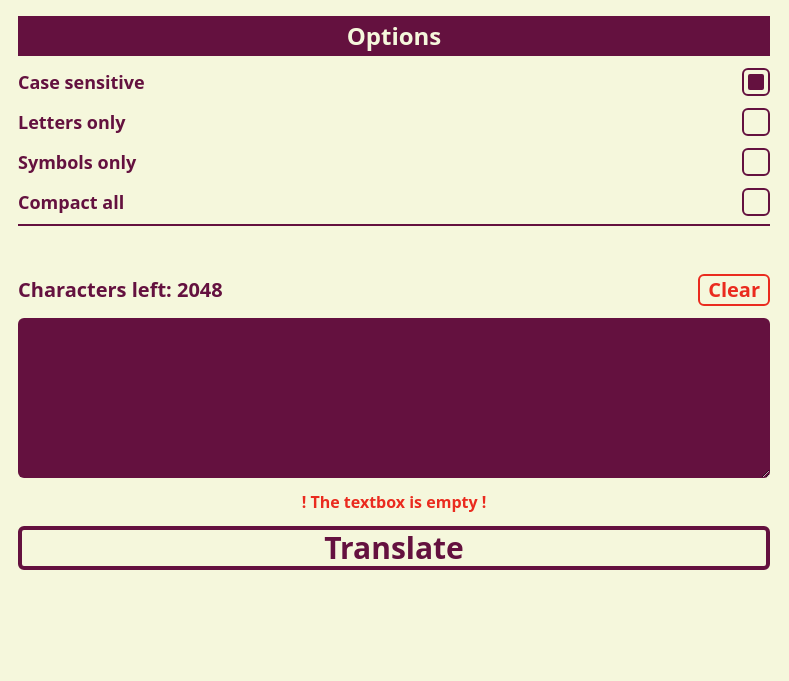
Scenario: App › should ignore the case of words when the caseSensitive is unchecked
Click the checkbox named "Case sensitive" in the row of "Case sensitive".
click(756, 82)  # box 742,68 -> 770,96
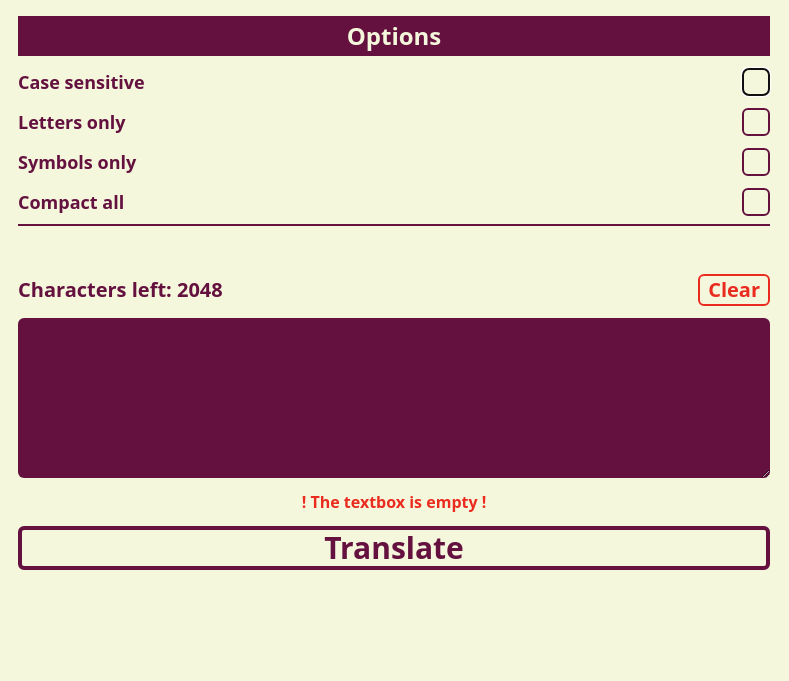
Type "word WORD wORd" into the text box.
click(394, 398); type("word WORD wORd")  # box 18,318 -> 770,478
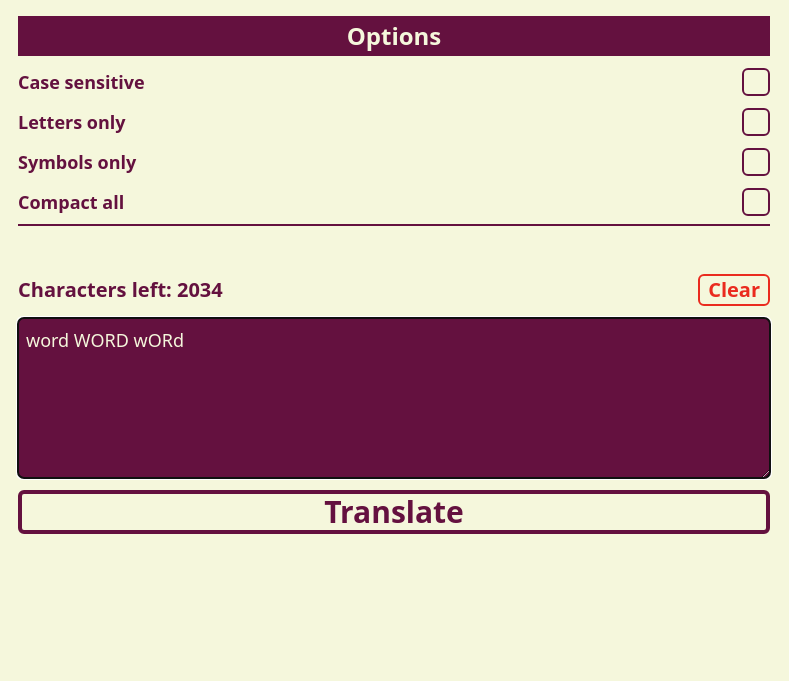
Click the button "Translate".
click(394, 512)  # box 18,490 -> 770,534
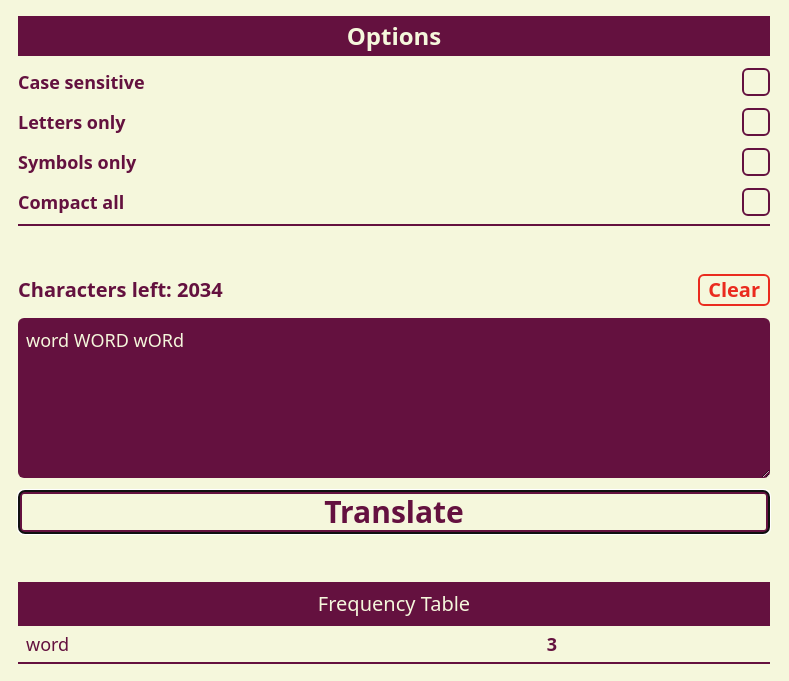
Expected: the row "word 3" is shown, 18,626 -> 770,663
